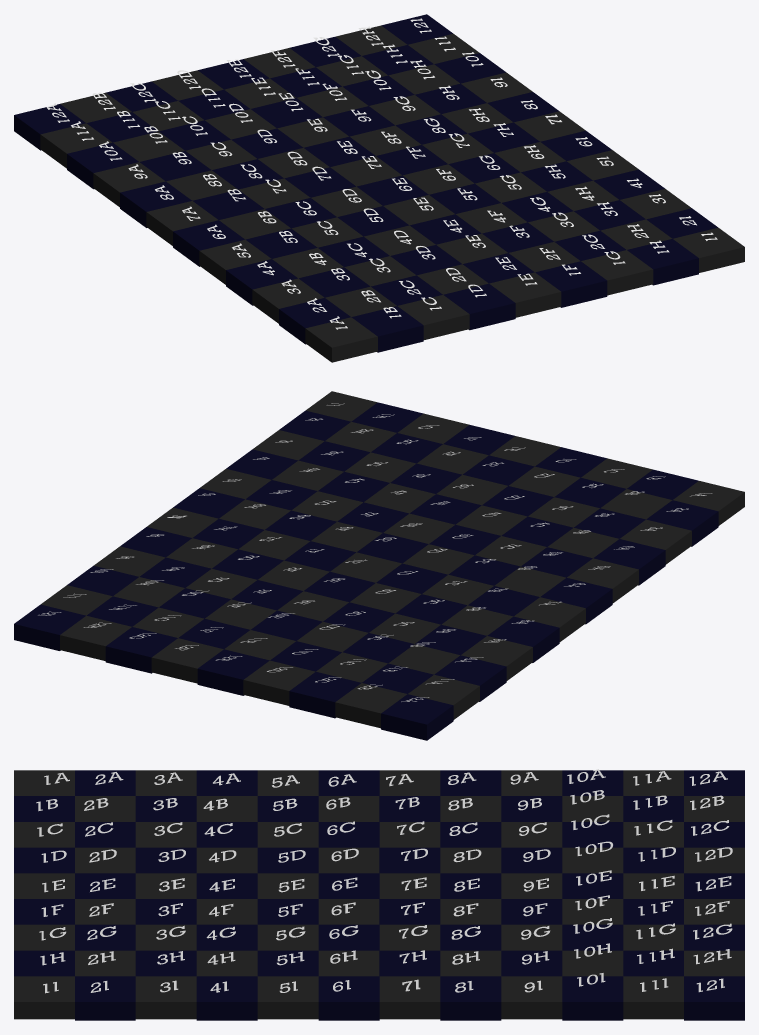
Rendered from gameboard.dae.
3 renders of one model, top to bottom at view 1: azimuth 30°, elevation 25°; view 2: azimuth 150°, elevation 25°; view 3: azimuth 270°, elevation 25°, orthographic. The views are drawn at different scales.
Parts seen in each view (by area): view 1: Plane_001, Plane; view 2: Plane, Plane_001; view 3: Plane, Plane_001.
Part boxes in pixels (<box>): Plane_001: <box>40,25,744,362</box>; Plane: <box>14,14,717,352</box>; Plane: <box>14,402,718,740</box>; Plane_001: <box>41,391,744,728</box>; Plane: <box>14,770,744,1020</box>; Plane_001: <box>14,770,744,1019</box>.
Size of the model in its own units: 5.62 by 7.5 by 0.4191.
